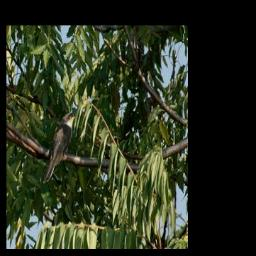Cuckoo: (40, 111, 77, 185)
